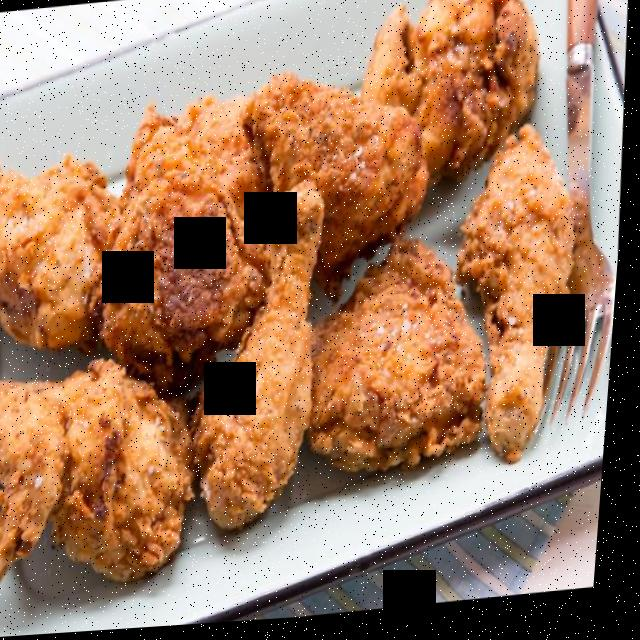Frango: (0, 0, 607, 633)
